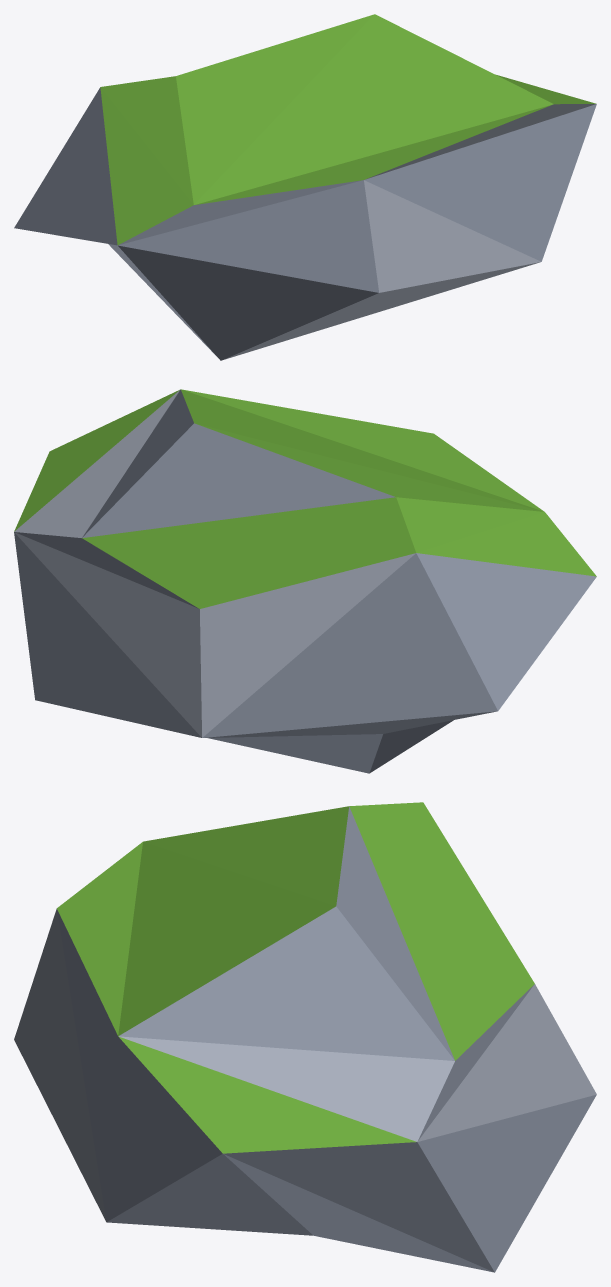
Rendered from roca_v3.glb.
3 renders of one model, top to bottom at view 1: azimuth 30°, elevation 25°; view 2: azimuth 150°, elevation 25°; view 3: azimuth 270°, elevation 25°, orthographic. The views are drawn at different scales.
Visible parts, largest first — view 1: roca_musgo, roca_roca, roca_roca_claro; view 2: roca_roca, roca_musgo, roca_roca_claro; view 3: roca_roca, roca_musgo, roca_roca_claro.
Part boxes in pixels (box(x1,y1,x2,y2)): roca_musgo: box(100, 14, 596, 244); roca_roca: box(14, 87, 596, 360); roca_roca_claro: box(222, 104, 595, 360); roca_roca: box(14, 389, 596, 773); roca_musgo: box(14, 389, 596, 608); roca_roca_claro: box(14, 390, 415, 737); roca_roca: box(57, 806, 596, 1272); roca_musgo: box(57, 802, 534, 1153); roca_roca_claro: box(14, 909, 596, 1221).
Size of the model in its own units: 2.7 by 1.44 by 2.08.
